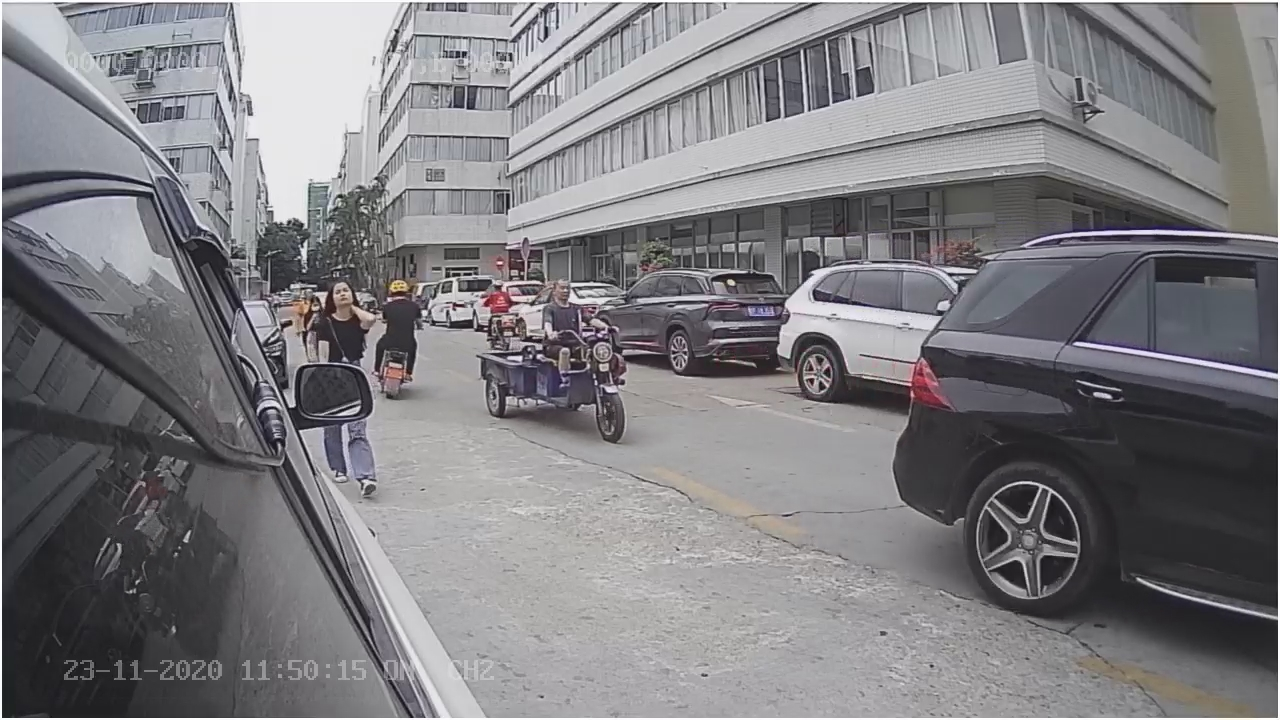person: (299, 280, 383, 360)
